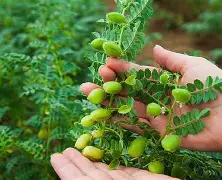crops: (0, 1, 220, 178), (0, 126, 48, 177)
